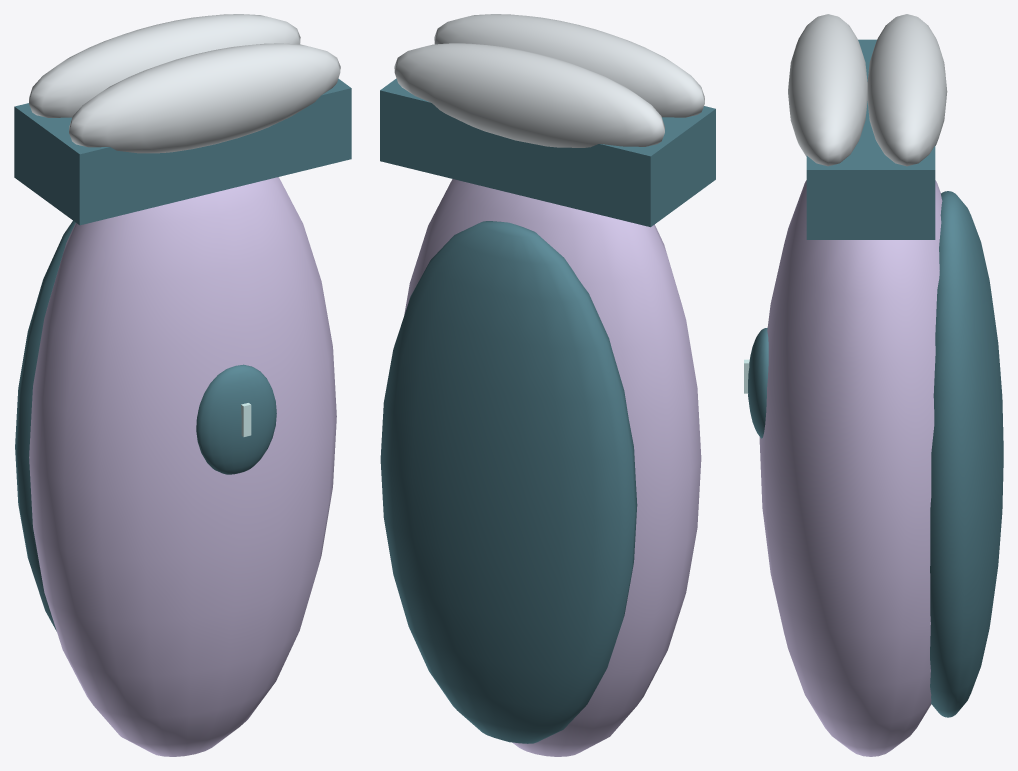
The model's file is polish.glb.
The picture shows the model from 3 angles, left to right: view 1: azimuth 30°, elevation 25°; view 2: azimuth 150°, elevation 25°; view 3: azimuth 270°, elevation 25°; orthographic projection.
Parts seen in each view (by area): view 1: Grip, Blade_mount, Foil_0.05, Foil_-0.042, Power_button, Rubber_back; view 2: Rubber_back, Grip, Blade_mount, Foil_-0.042, Foil_0.05; view 3: Grip, Rubber_back, Blade_mount, Foil_0.05, Foil_-0.042, Power_button.
Part boxes in pixels (x1,y1,x2,y2): Grip: (29, 177, 336, 756); Blade_mount: (14, 78, 351, 225); Foil_0.05: (69, 43, 340, 153); Foil_-0.042: (29, 14, 300, 117); Power_button: (196, 364, 276, 474); Rubber_back: (15, 221, 75, 631); Rubber_back: (380, 221, 637, 743); Grip: (404, 179, 701, 756); Blade_mount: (380, 78, 715, 227); Foil_-0.042: (394, 43, 664, 147); Foil_0.05: (434, 14, 704, 117); Grip: (759, 180, 942, 756); Rubber_back: (930, 191, 1003, 717); Blade_mount: (806, 39, 935, 239); Foil_0.05: (788, 14, 867, 166); Foil_-0.042: (867, 14, 947, 166); Power_button: (748, 328, 768, 438).
Bounding box in the file's own units: 0.38 × 0.902 × 0.303.
